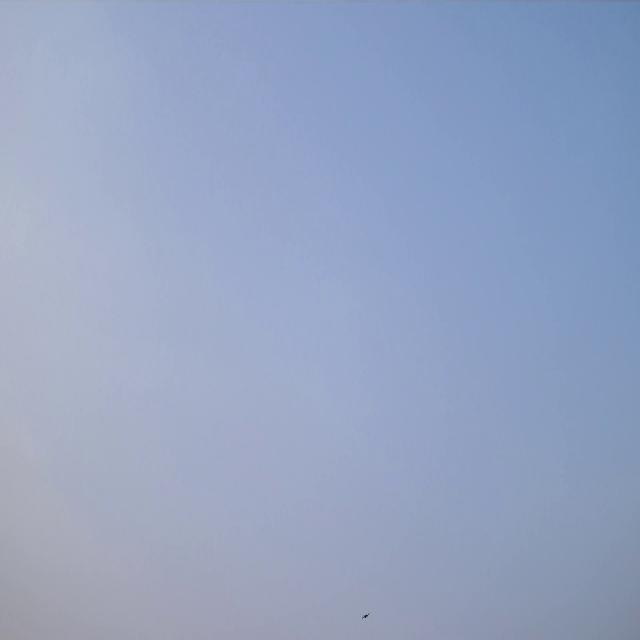UAV: (361, 610, 370, 621)
